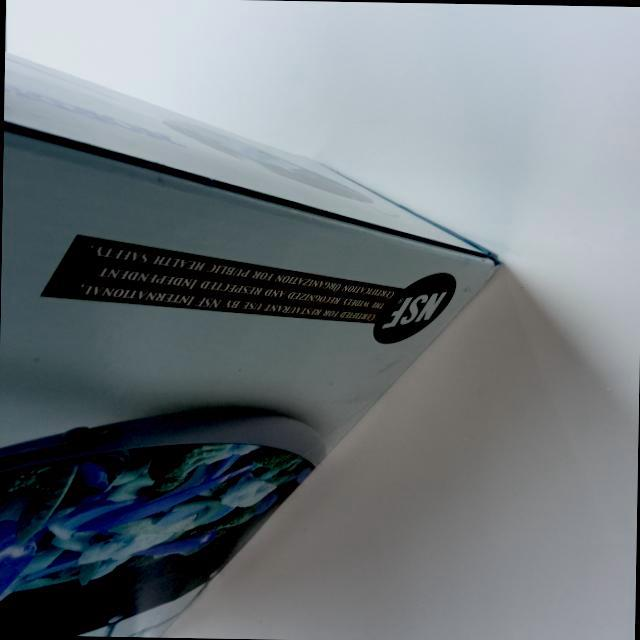cardboard: (0, 46, 517, 640)
